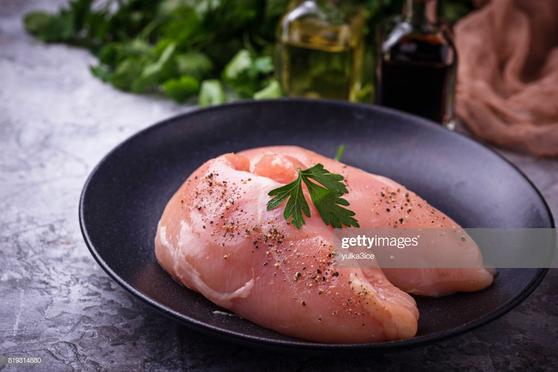chicken_fillet: (158, 134, 493, 336)
